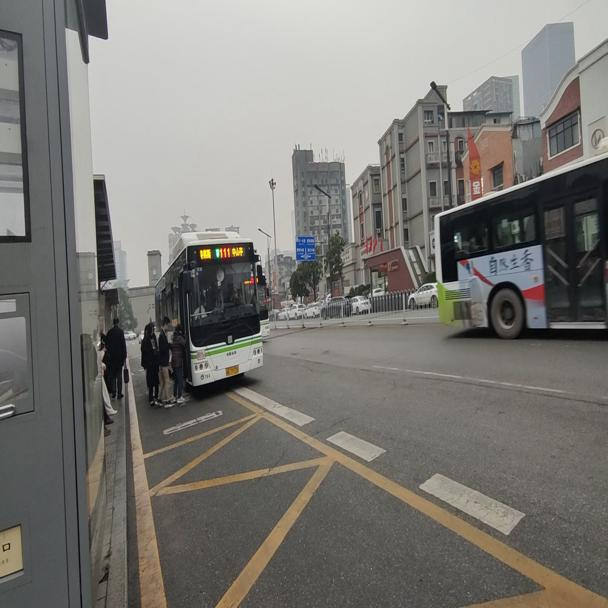bus: (430, 155, 607, 333), (152, 234, 265, 391)
screen: (218, 243, 230, 258)
